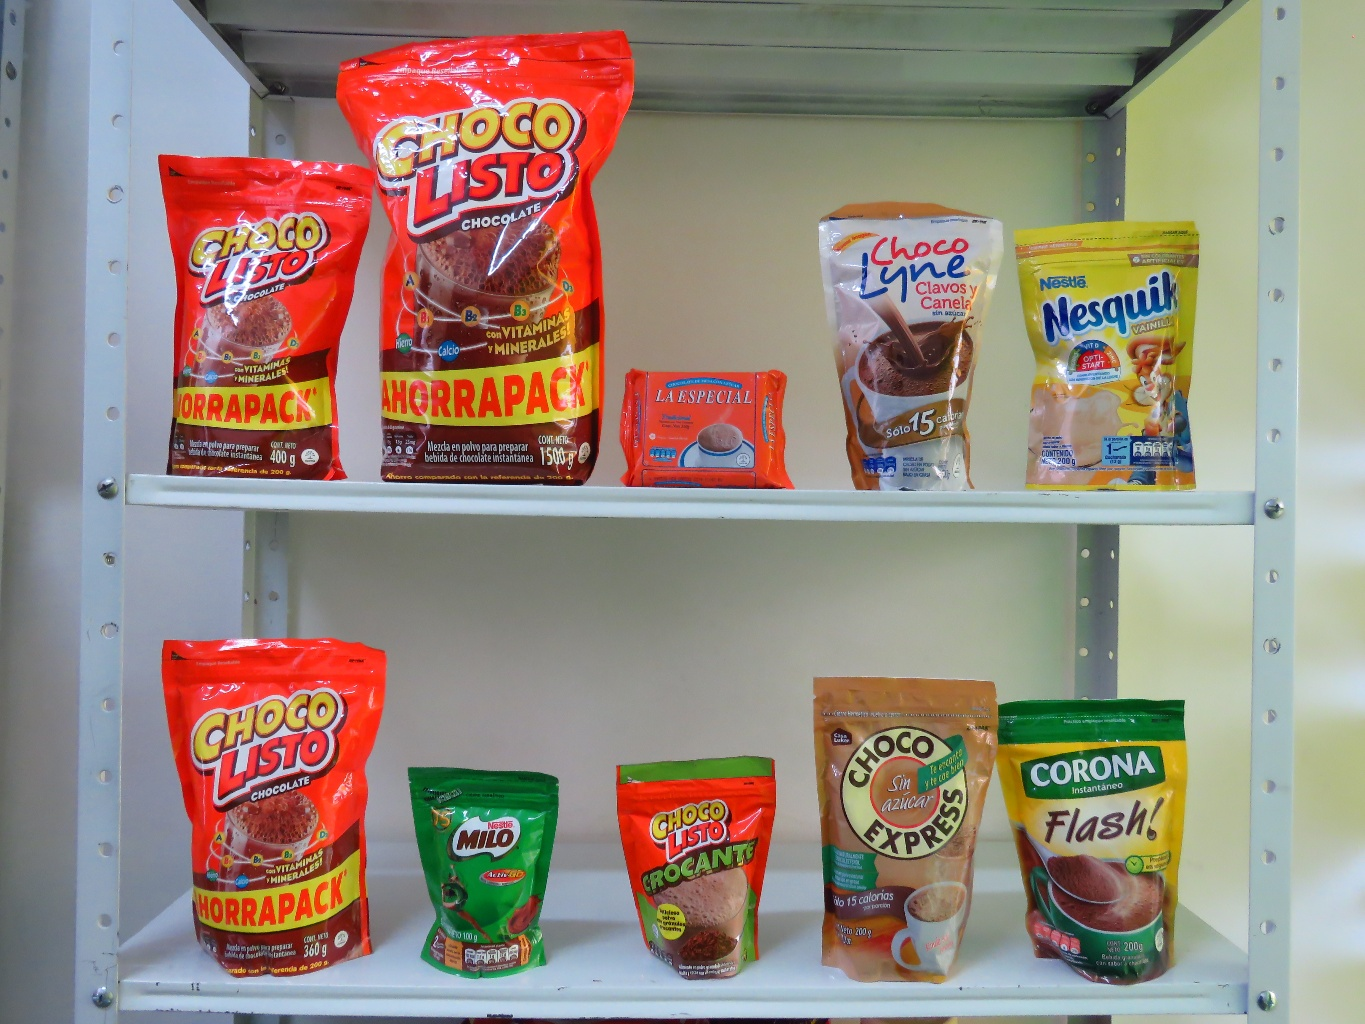COL0170102DYP10000: (600, 745, 794, 997)
COL0170103DYP1,500: (305, 11, 646, 502)
COL0170103DYP36000: (127, 622, 408, 995)
COL0170103DYP40000: (132, 129, 382, 483)
COL0170203DYP10000: (403, 749, 572, 993)
COL0170306DYP20000: (1012, 199, 1234, 509)
